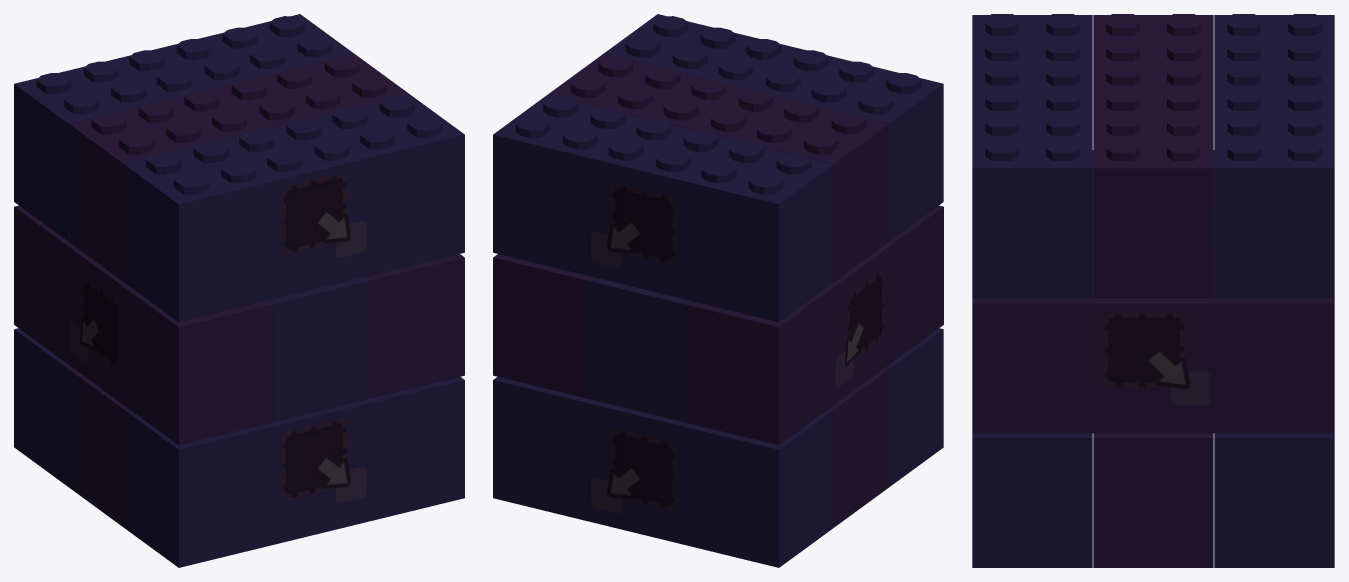
The model's file is InteractableBlock3x3Shrink_Unhovered.fbx.
The picture shows the model from 3 angles, left to right: view 1: azimuth 30°, elevation 25°; view 2: azimuth 150°, elevation 25°; view 3: azimuth 270°, elevation 25°; orthographic projection. The views are drawn at different scales.
Parts seen in each view (by area): view 1: Cube.035; view 2: Cube.035; view 3: Cube.035.
Part boxes in pixels (x1=…): Cube.035: x1=14, y1=14, x2=464, y2=567; Cube.035: x1=493, y1=14, x2=943, y2=567; Cube.035: x1=972, y1=14, x2=1334, y2=567.
Size of the model in its own units: 457 by 566 by 456.
